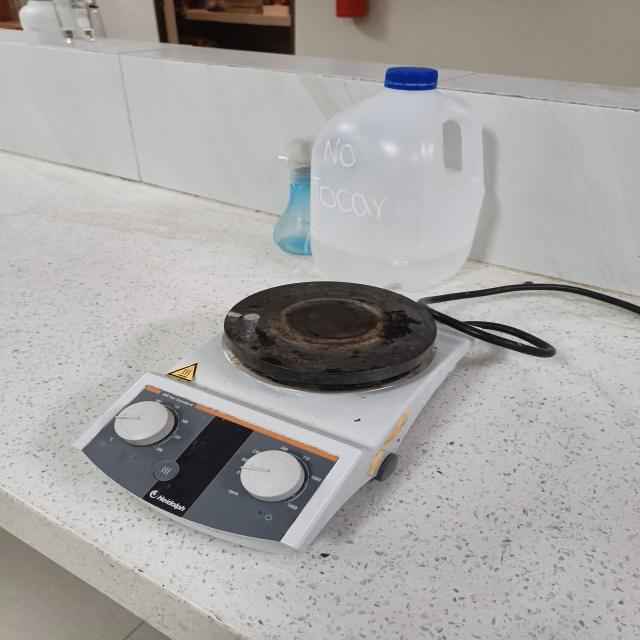Placa Calefactora con Agitador MagneticoMetalico: (75, 282, 472, 554)
